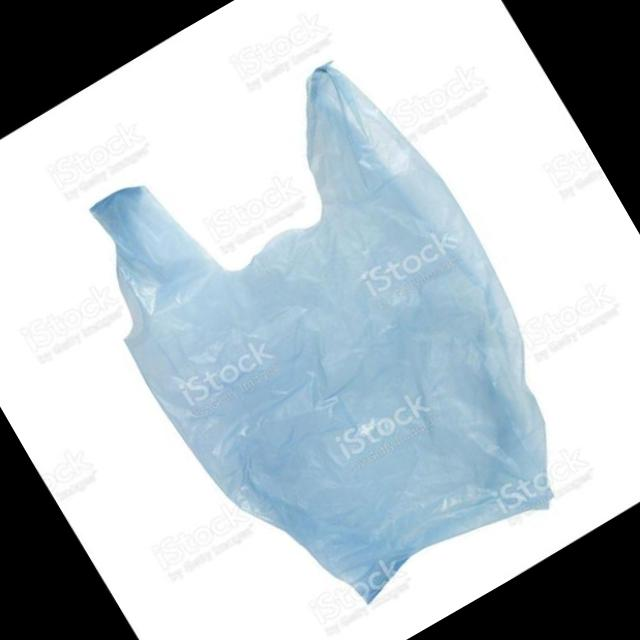KantongPlastik: (48, 36, 615, 640)
